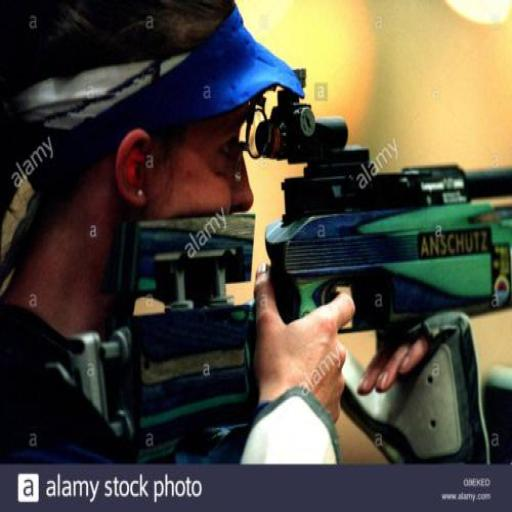shooting: (19, 43, 512, 505)
